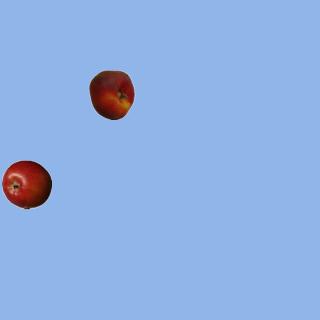Apple Braeburn: (1, 159, 51, 209)
Nectarine Flat: (86, 69, 136, 119)
